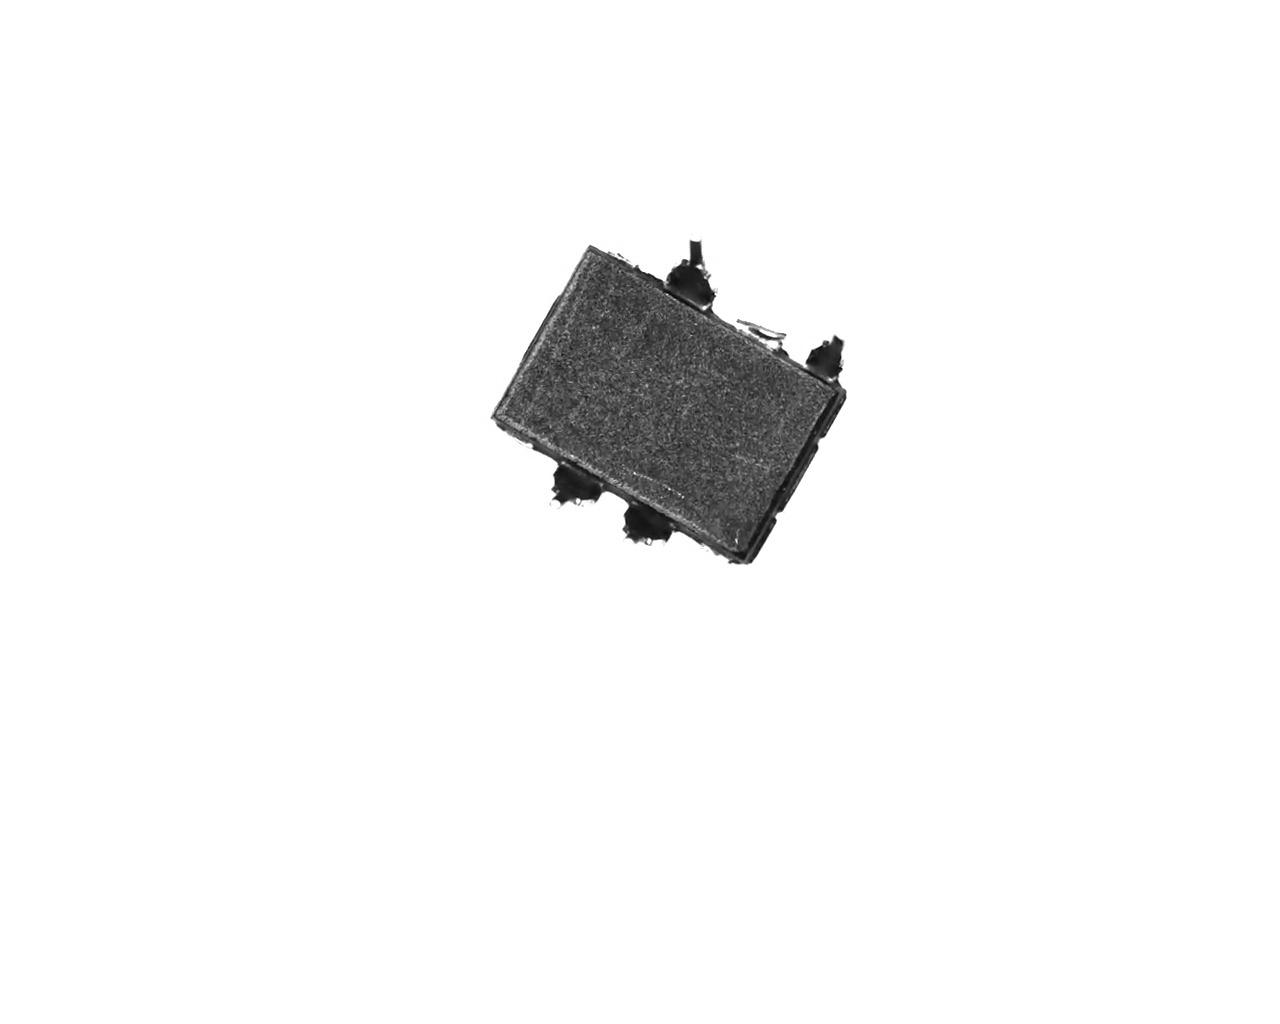brokenLeg: (669, 236, 720, 316), (542, 455, 607, 514), (616, 498, 676, 554), (728, 312, 790, 359), (605, 243, 665, 287), (806, 329, 846, 390), (495, 422, 534, 452), (701, 546, 737, 569)
